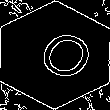O_SW: (19, 22, 91, 88)
